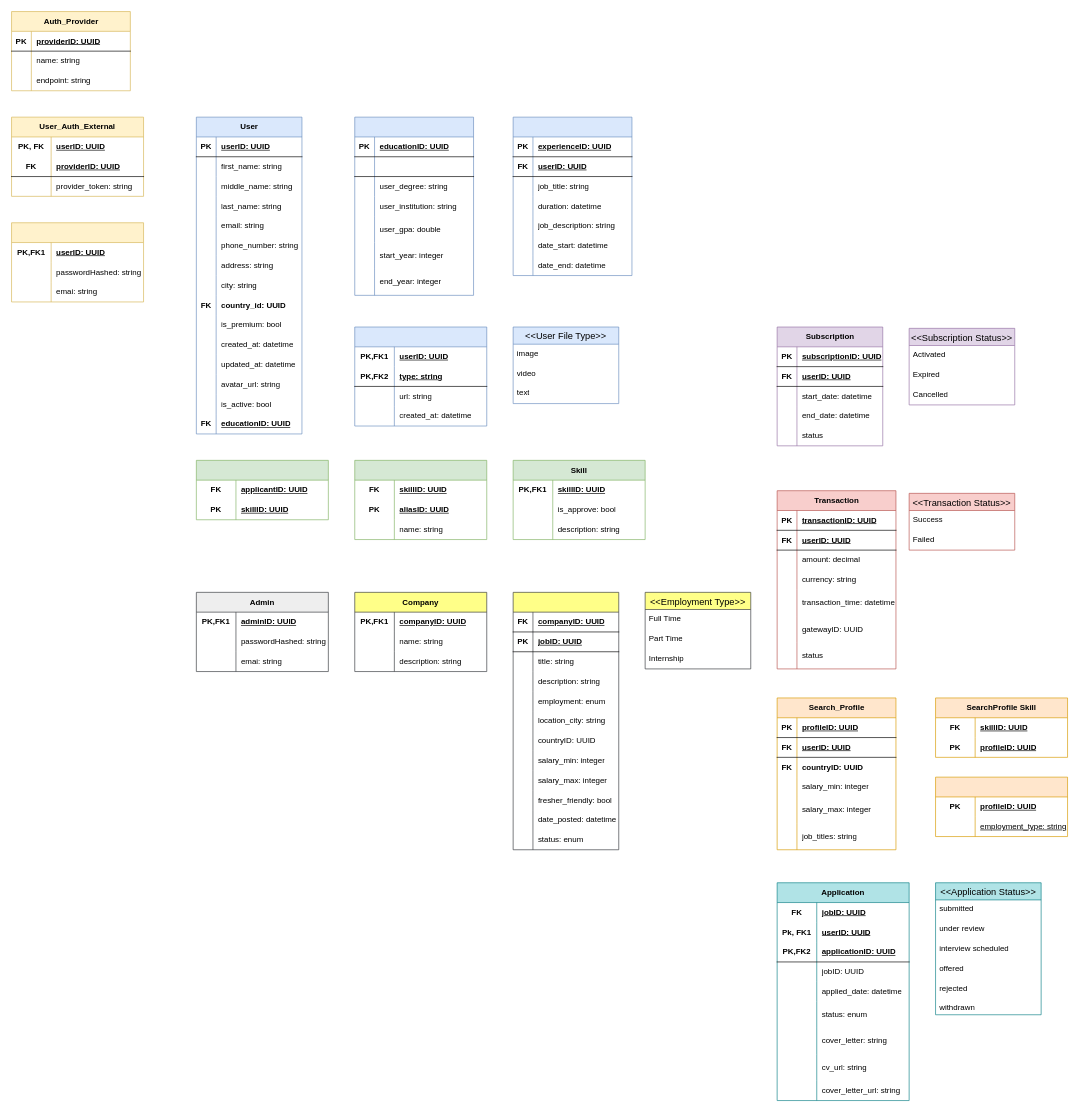
Some shapes in this 1079 by 1112 pixel diagram are drawn without their labels. The shapes that lost their labels are listed below. From the top down, each one's box as (x1, y1, x2, y2) in pixels, then its label:
(354, 116, 474, 295): User_Education
(512, 116, 632, 276): User_Work_Experience
(11, 222, 144, 302): User_Auth_Internal
(354, 326, 487, 426): User_File
(196, 460, 328, 520): Skill_Applicant
(354, 460, 487, 540): Skill_Alias
(512, 592, 619, 850): Job_Posting
(935, 776, 1068, 837): SearchProfile Employment
